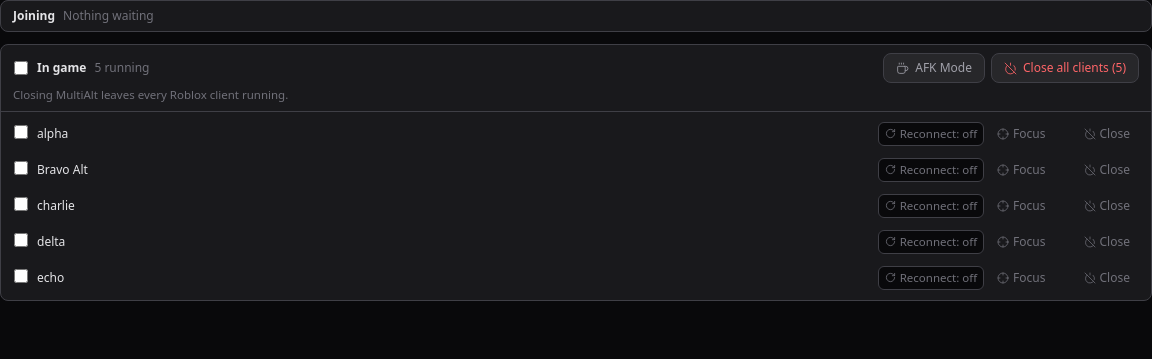
SessionPanel — seleção em lote › clears the selection from the bar
This screenshot has width=1152, height=359.
Click the checkbox named "Select all running clients".
click(21, 68)  # box [14,61,28,75]
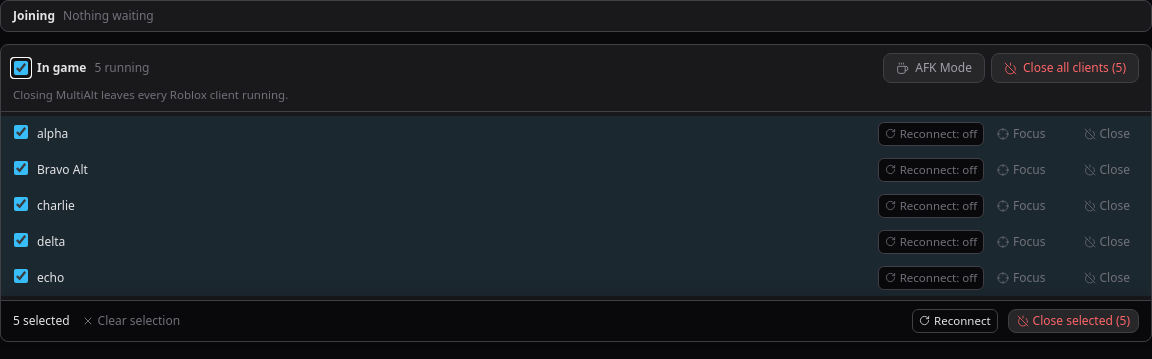
Click the button "Clear selection".
click(131, 321)  # box [76,309,186,333]
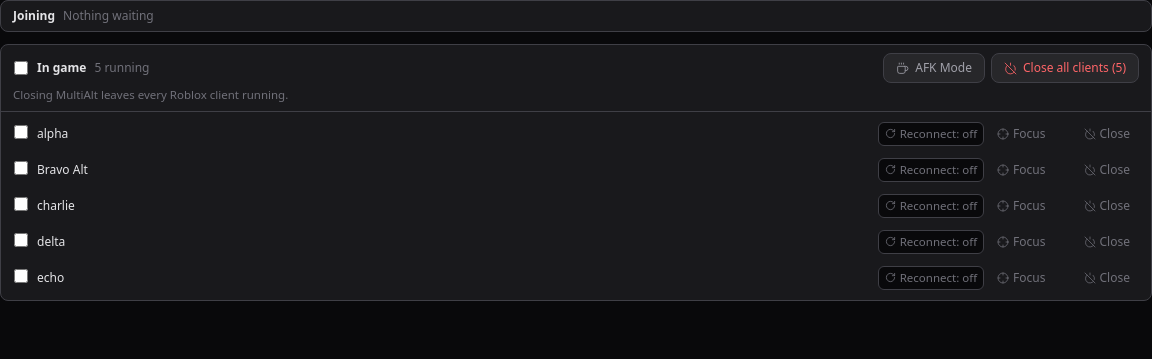
Expected: the element with test id "session-bulk-bar" is gone
Expected: the checkbox named "Select alpha" is not checked, [14,125,28,139]
